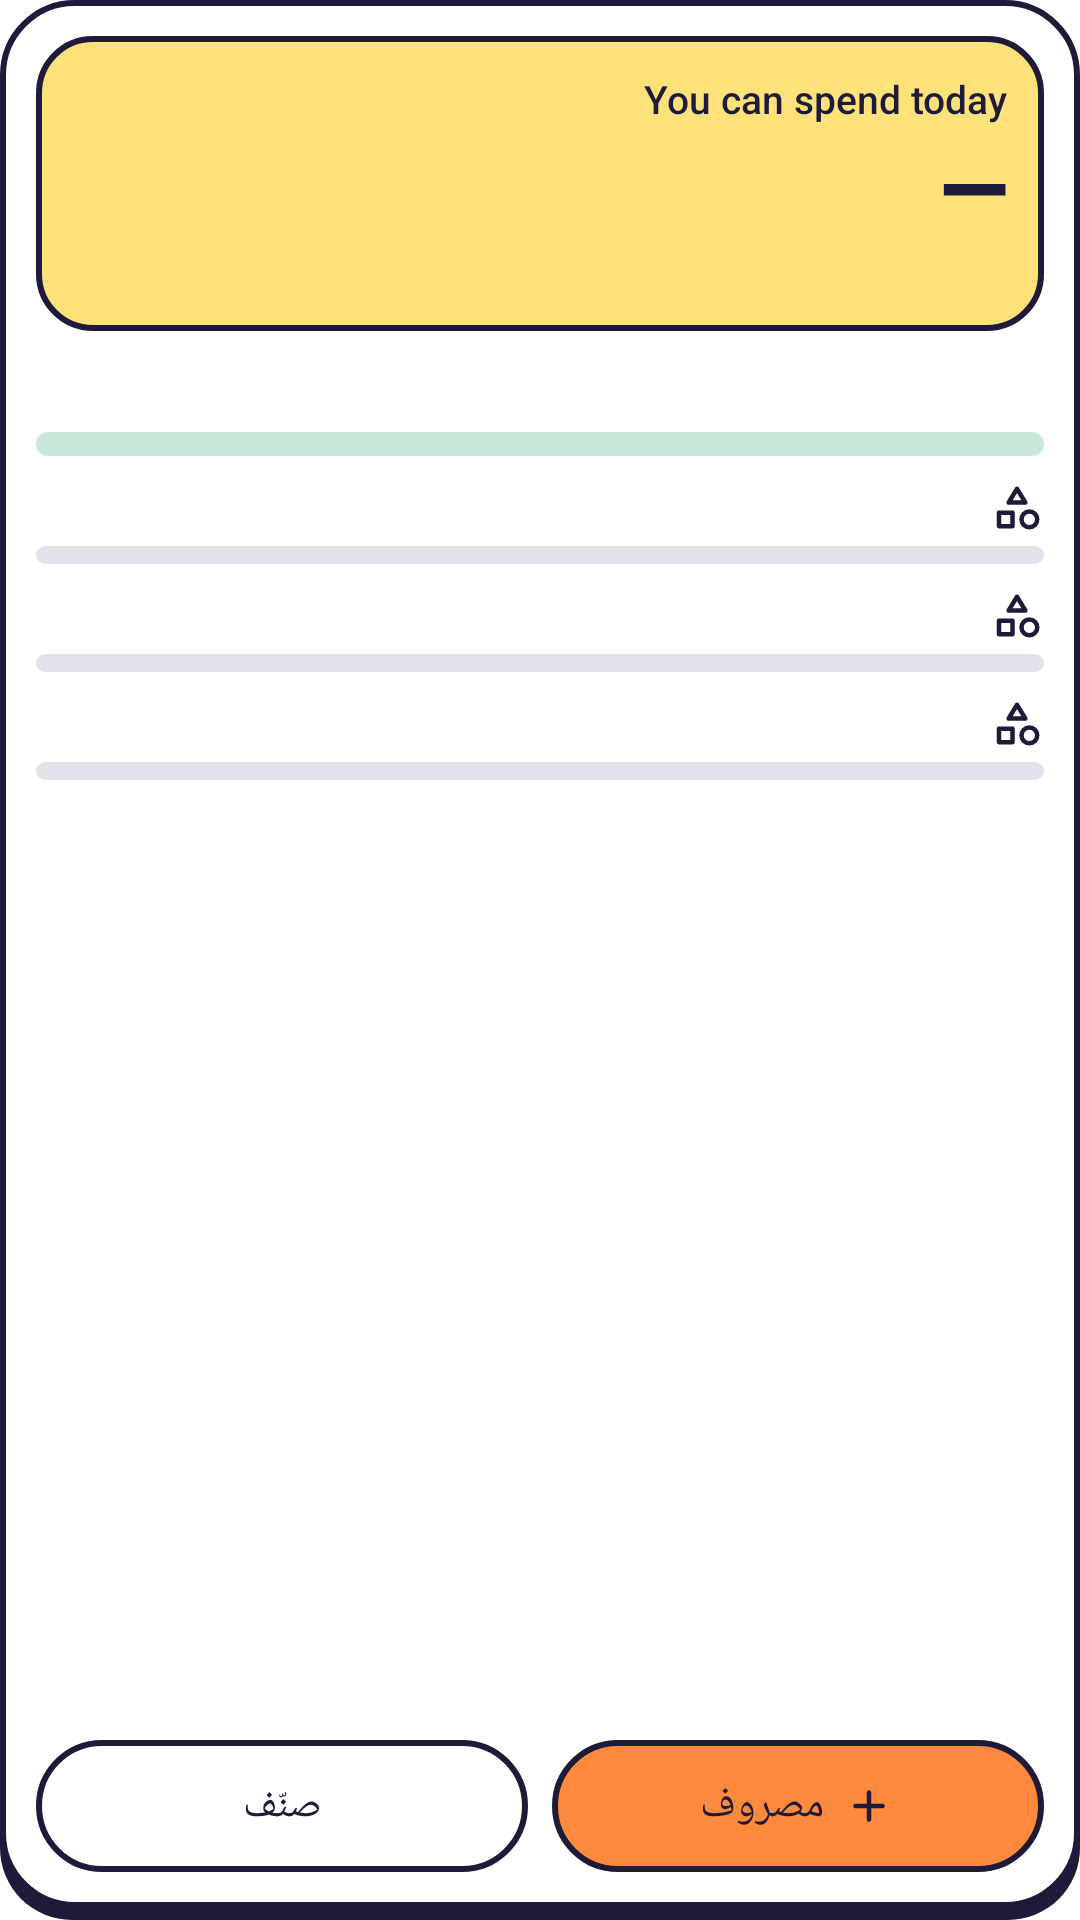

Icon bounding boxes for this 1080x1920 phone screenshot, format bbox=[x1, y1, x2, y2]:
wic add: bbox=[853, 1790, 885, 1822]
wic category: bbox=[996, 486, 1040, 530], bbox=[996, 594, 1040, 638], bbox=[996, 702, 1040, 746]
